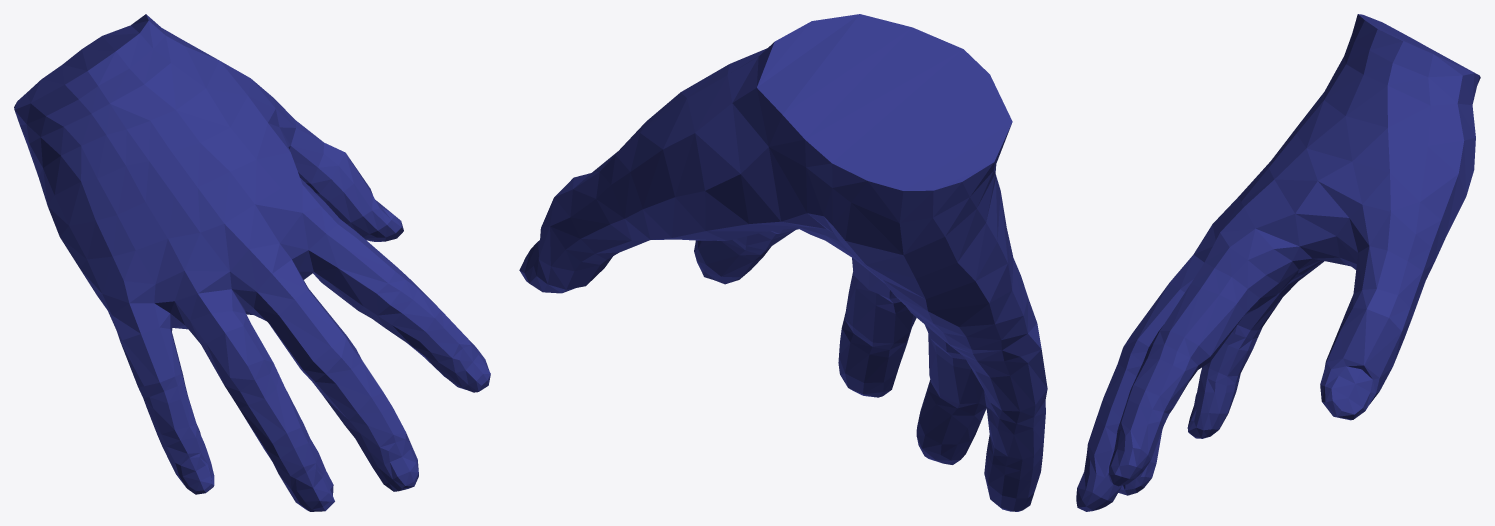
The picture shows the model from 3 angles, left to right: view 1: azimuth 30°, elevation 25°; view 2: azimuth 150°, elevation 25°; view 3: azimuth 270°, elevation 25°; orthographic projection. The views are drawn at different scales.
Bounding box in the file's own units: 0.1411 × 0.1545 × 0.1309.
